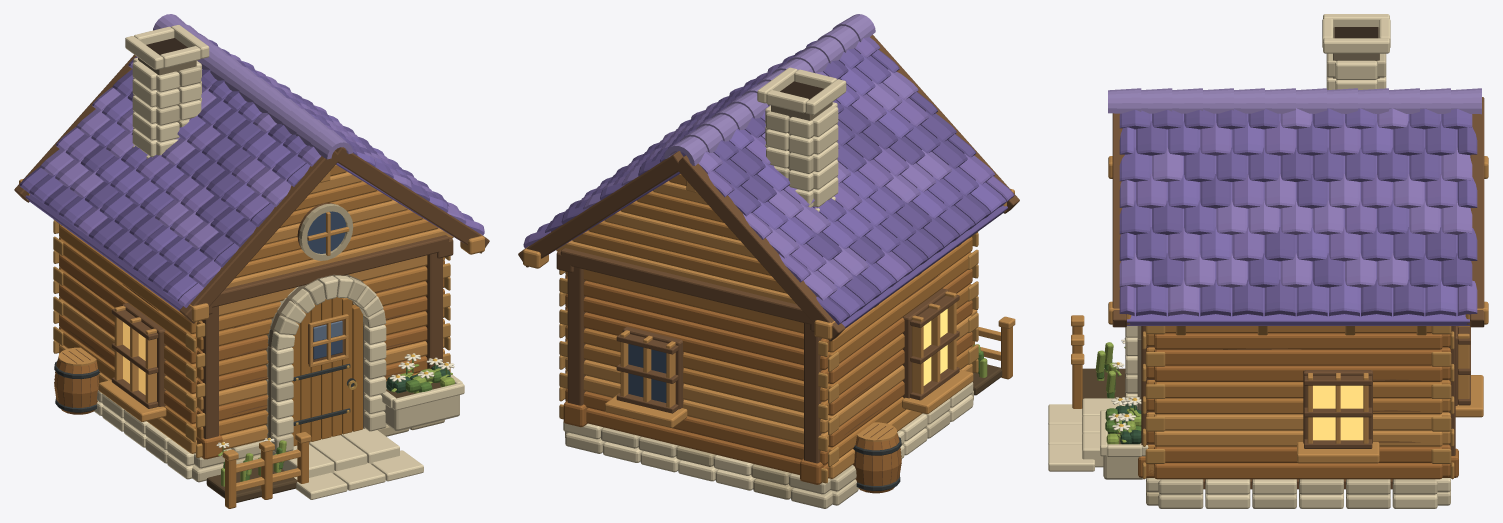
3 renders of one model, left to right at view 1: azimuth 30°, elevation 25°; view 2: azimuth 150°, elevation 25°; view 3: azimuth 270°, elevation 25°, orthographic. The views are drawn at different scales.
Parts seen in each view (by area): view 1: Violet roof__study_violet, Oak frame__study_timber, Log walls__study_oak, Stone entrance__study_stone_light, Log walls__study_oak_warm, Door leaf__study_door_oak, Chimney__study_stone_light, Log walls__study_oak_light, Gable logs__study_oak, Ridge caps__study_violet_light, Gable logs__study_oak_light, Windows__study_oak_light (+21 smaller); view 2: Violet roof__study_violet, Log walls__study_oak_warm, Oak frame__study_timber, Log walls__study_oak, Gable logs__study_oak, Log walls__study_oak_light, Chimney__study_stone_light, Windows__study_oak_light, Ridge caps__study_violet_light, Masonry__study_stone_light, Windows__study_timber, Gable logs__study_oak_light (+12 smaller); view 3: Violet roof__study_violet, Log walls__study_oak_warm, Log walls__study_oak, Ridge caps__study_violet_light, Log walls__study_oak_light, Masonry__study_stone, Oak frame__study_timber, Stone entrance__study_stone_light, Windows__study_oak_light, Chimney__study_stone_light, Log walls__study_endgrain, Masonry__study_stone_light (+10 smaller).
Boxes of the visible parts, x1=… form: Violet roof__study_violet: x1=19, y1=33, x2=484, y2=311; Oak frame__study_timber: x1=14, y1=54, x2=489, y2=438; Log walls__study_oak: x1=59, y1=225, x2=444, y2=438; Stone entrance__study_stone_light: x1=266, y1=275, x2=423, y2=499; Log walls__study_oak_warm: x1=59, y1=224, x2=444, y2=423; Door leaf__study_door_oak: x1=291, y1=297, x2=362, y2=446; Chimney__study_stone_light: x1=125, y1=25, x2=209, y2=158; Log walls__study_oak_light: x1=59, y1=255, x2=444, y2=453; Gable logs__study_oak: x1=234, y1=165, x2=438, y2=278; Ridge caps__study_violet_light: x1=153, y1=14, x2=352, y2=159; Gable logs__study_oak_light: x1=226, y1=171, x2=453, y2=288; Windows__study_oak_light: x1=98, y1=212, x2=349, y2=421; Violet roof__study_violet: x1=523, y1=37, x2=1014, y2=328; Log walls__study_oak_warm: x1=565, y1=268, x2=972, y2=478; Oak frame__study_timber: x1=518, y1=35, x2=1019, y2=463; Log walls__study_oak: x1=565, y1=237, x2=972, y2=458; Gable logs__study_oak: x1=572, y1=174, x2=786, y2=293; Log walls__study_oak_light: x1=565, y1=315, x2=972, y2=478; Chimney__study_stone_light: x1=757, y1=67, x2=846, y2=211; Windows__study_oak_light: x1=605, y1=291, x2=973, y2=427; Ridge caps__study_violet_light: x1=664, y1=14, x2=875, y2=165; Masonry__study_stone_light: x1=563, y1=382, x2=973, y2=490; Windows__study_timber: x1=616, y1=288, x2=959, y2=413; Gable logs__study_oak_light: x1=556, y1=181, x2=796, y2=304; Violet roof__study_violet: x1=1119, y1=108, x2=1477, y2=325; Log walls__study_oak_warm: x1=1146, y1=333, x2=1450, y2=479; Log walls__study_oak: x1=1146, y1=326, x2=1450, y2=448; Ridge caps__study_violet_light: x1=1108, y1=88, x2=1481, y2=114; Log walls__study_oak_light: x1=1146, y1=412, x2=1450, y2=474; Masonry__study_stone: x1=1146, y1=478, x2=1450, y2=508; Oak frame__study_timber: x1=1112, y1=97, x2=1484, y2=455; Stone entrance__study_stone_light: x1=1048, y1=336, x2=1137, y2=471; Windows__study_oak_light: x1=1297, y1=326, x2=1483, y2=463; Chimney__study_stone_light: x1=1322, y1=14, x2=1390, y2=89; Log walls__study_endgrain: x1=1142, y1=326, x2=1454, y2=479; Masonry__study_stone_light: x1=1205, y1=478, x2=1450, y2=508.
Size of the model in its own units: 4.9 by 5.34 by 5.55.
